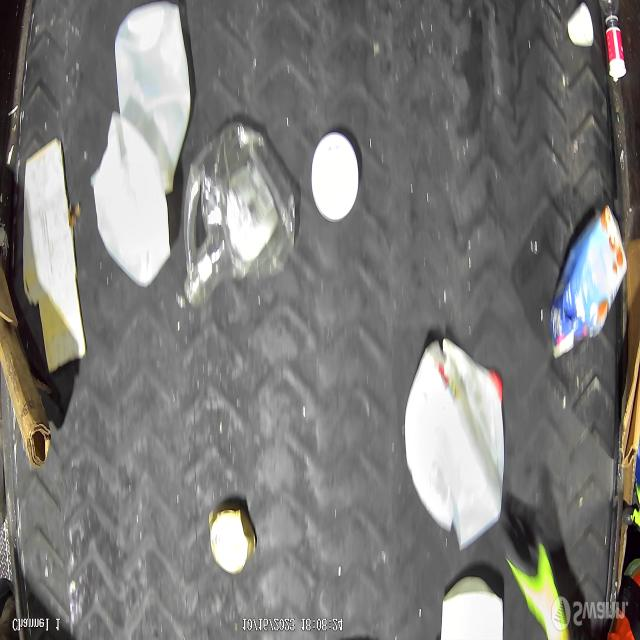can: (207, 498, 259, 579)
milk_jug: (405, 339, 503, 549), (118, 0, 192, 195), (92, 127, 171, 288)
non_white_jug: (550, 203, 628, 362)
